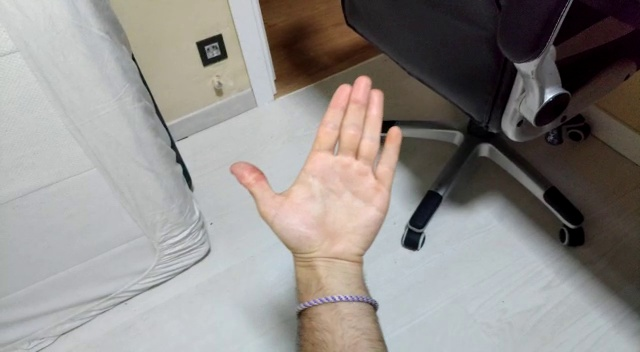Palm: (228, 73, 405, 273)
